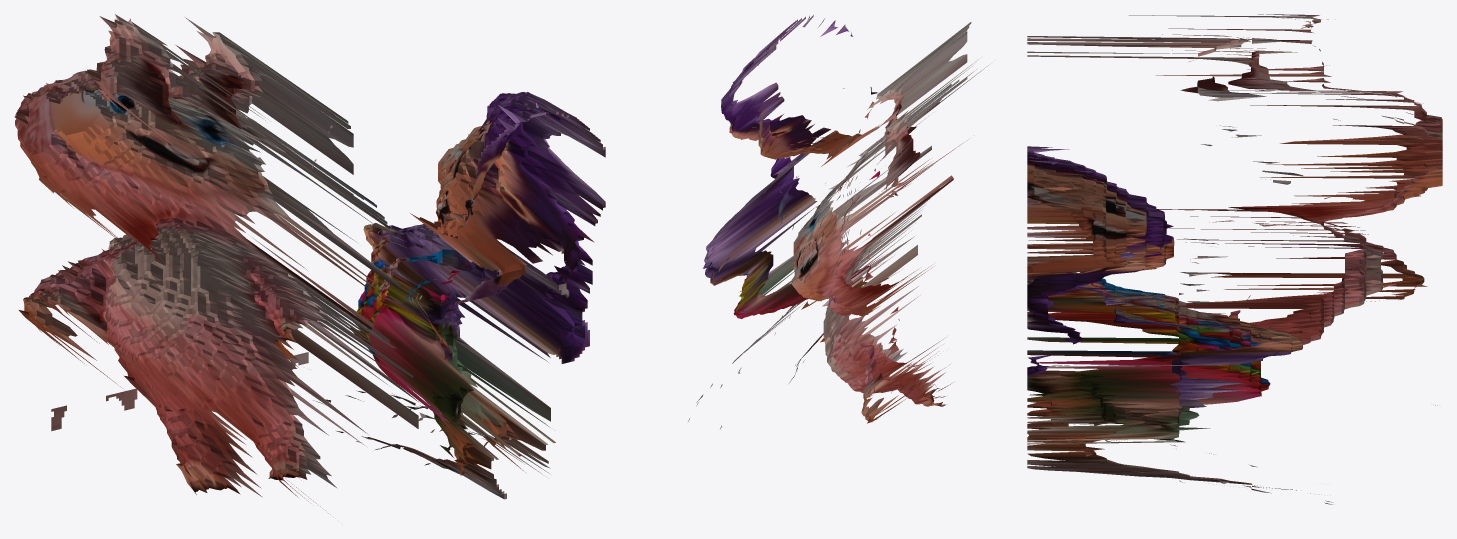
Rendered from frame_00095.glb.
The picture shows the model from 3 angles, left to right: view 1: azimuth 30°, elevation 25°; view 2: azimuth 150°, elevation 25°; view 3: azimuth 270°, elevation 25°; orthographic projection. The views are drawn at different scales.
Visible parts, largest first — view 1: geometry_0; view 2: geometry_0; view 3: geometry_0.
Boxes of the visible parts, box(x1,y1,x2,y2) form: geometry_0: box(14, 14, 605, 514); geometry_0: box(688, 15, 988, 428); geometry_0: box(1027, 14, 1442, 504).
Bounding box in the file's own units: 0.1367 × 0.1746 × 0.16.
Materials: 1 (1 with a texture image).
